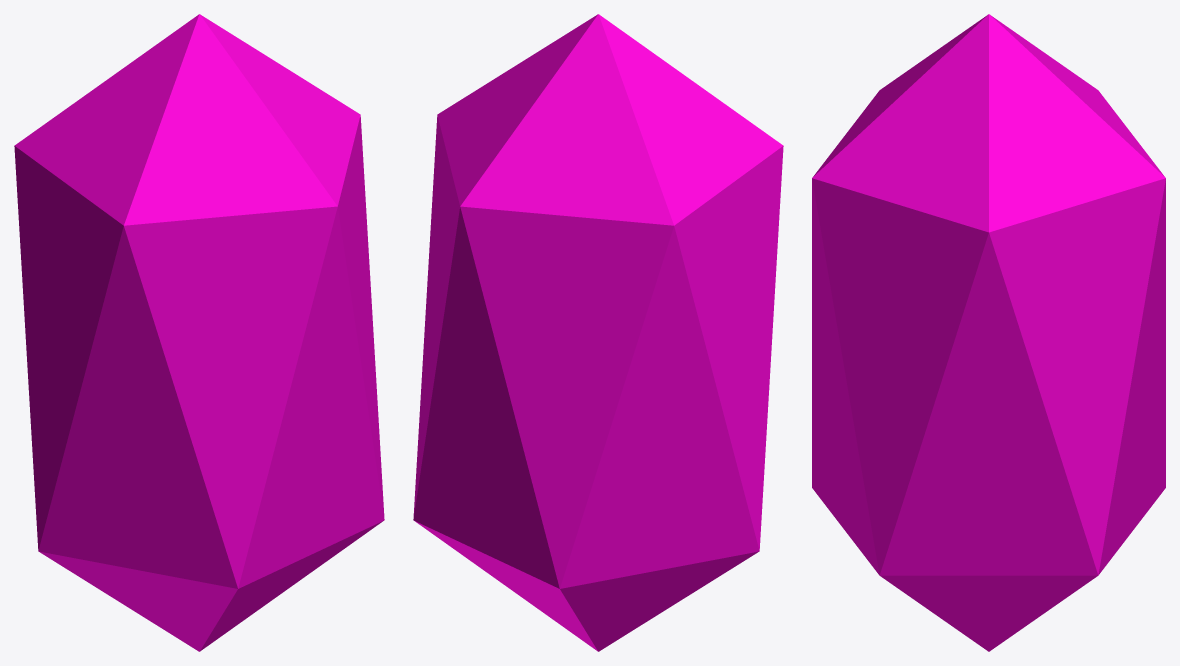
Rendered from Gem.fbx.
The picture shows the model from 3 angles, left to right: view 1: azimuth 30°, elevation 25°; view 2: azimuth 150°, elevation 25°; view 3: azimuth 270°, elevation 25°; orthographic projection.
Visible parts, largest first — view 1: Gem; view 2: Gem; view 3: Gem.
Boxes of the visible parts, x1,y1,x2,y2 form: Gem: [14, 14, 384, 651]; Gem: [413, 14, 783, 651]; Gem: [812, 14, 1165, 651].
Size of the model in its own units: 66.89 by 127 by 63.62.
